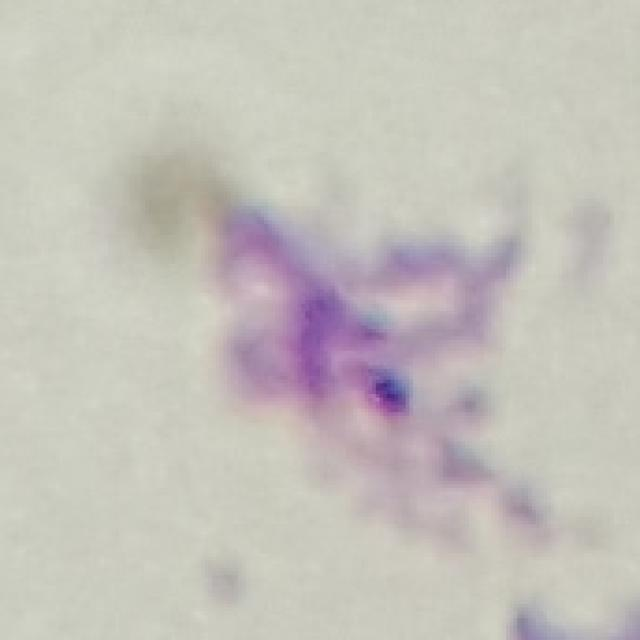non-sperm: (180, 158, 553, 513)
